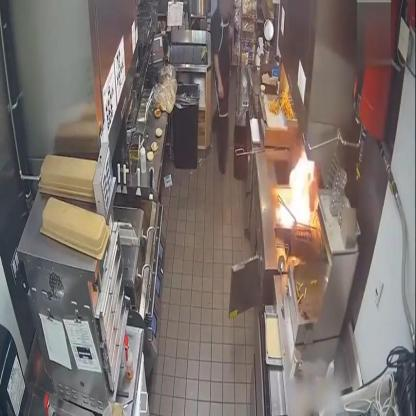fire: (274, 148, 317, 226)
